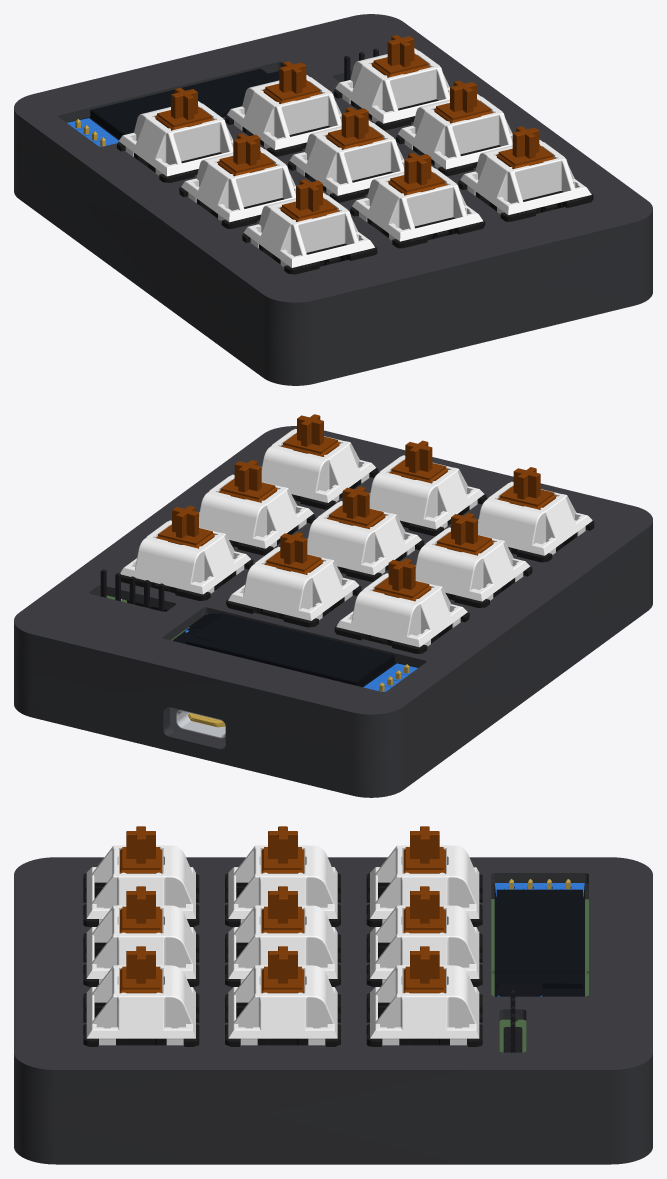
Rendered from macropad.glb.
The picture shows the model from 3 angles, top to bottom: view 1: azimuth 30°, elevation 25°; view 2: azimuth 150°, elevation 25°; view 3: azimuth 270°, elevation 25°; orthographic projection. The views are drawn at different scales.
Parts seen in each view (by area): view 1: Enclosure top, MX_PCB (×9), Enclosure bottom, OLED_128x32; view 2: Enclosure top, MX_PCB (×9), Enclosure bottom, OLED_128x32, XIAO RP2040, PinHeader_1x05_P2.54mm_Vertical; view 3: Enclosure top, MX_PCB (×9), Enclosure bottom, OLED_128x32, Macropad-mk2_PCB, PinHeader_1x05_P2.54mm_Vertical.
Boxes of the visible parts, x1,y1,x2,y2 form: Enclosure top: (14,14,652,341); MX_PCB (×9): (116,35,593,274); Enclosure bottom: (14,148,652,385); OLED_128x32: (67,68,279,146); Enclosure top: (14,426,652,753); MX_PCB (×9): (119,414,594,663); Enclosure bottom: (14,560,652,797); OLED_128x32: (172,613,417,691); XIAO RP2040: (176,709,225,738); PinHeader_1x05_P2.54mm_Vertical: (100,569,164,611); Enclosure top: (14,857,652,1113); MX_PCB (×9): (83,826,482,1046); Enclosure bottom: (14,1098,652,1164); OLED_128x32: (494,879,584,996); Macropad-mk2_PCB: (491,899,588,1052); PinHeader_1x05_P2.54mm_Vertical: (503,990,522,1052).
Bounding box in the file's own units: 0.0677 × 0.0245 × 0.0859.
